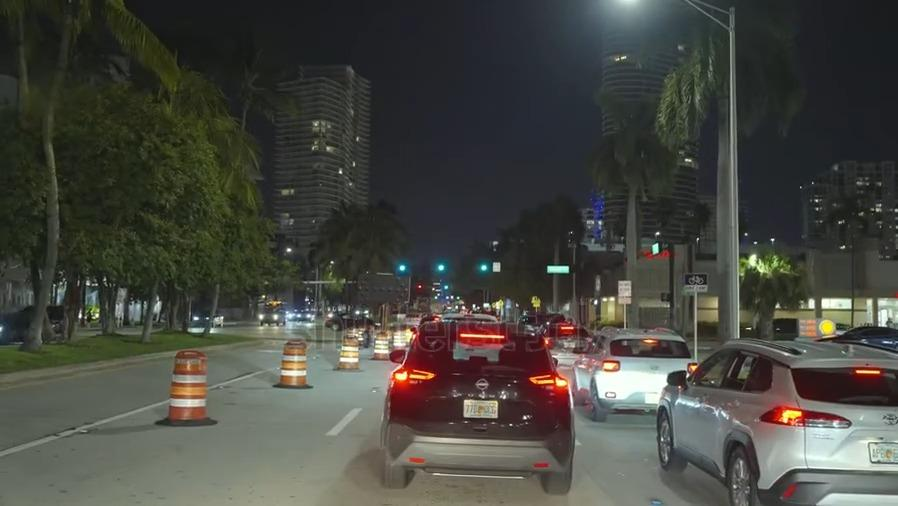car: (662, 337, 898, 506), (382, 319, 574, 495), (566, 326, 696, 412), (817, 323, 898, 353), (541, 322, 591, 363), (0, 312, 48, 347), (31, 299, 74, 332), (321, 313, 379, 330), (193, 310, 225, 329), (255, 306, 287, 325), (399, 311, 422, 324)
cone: (166, 349, 210, 423), (277, 336, 308, 387), (334, 333, 361, 372), (373, 327, 388, 363), (391, 327, 405, 355)
traffic light: (474, 259, 497, 279), (393, 258, 414, 274), (432, 259, 447, 279)
wheel: (720, 443, 763, 505), (653, 405, 682, 472)
